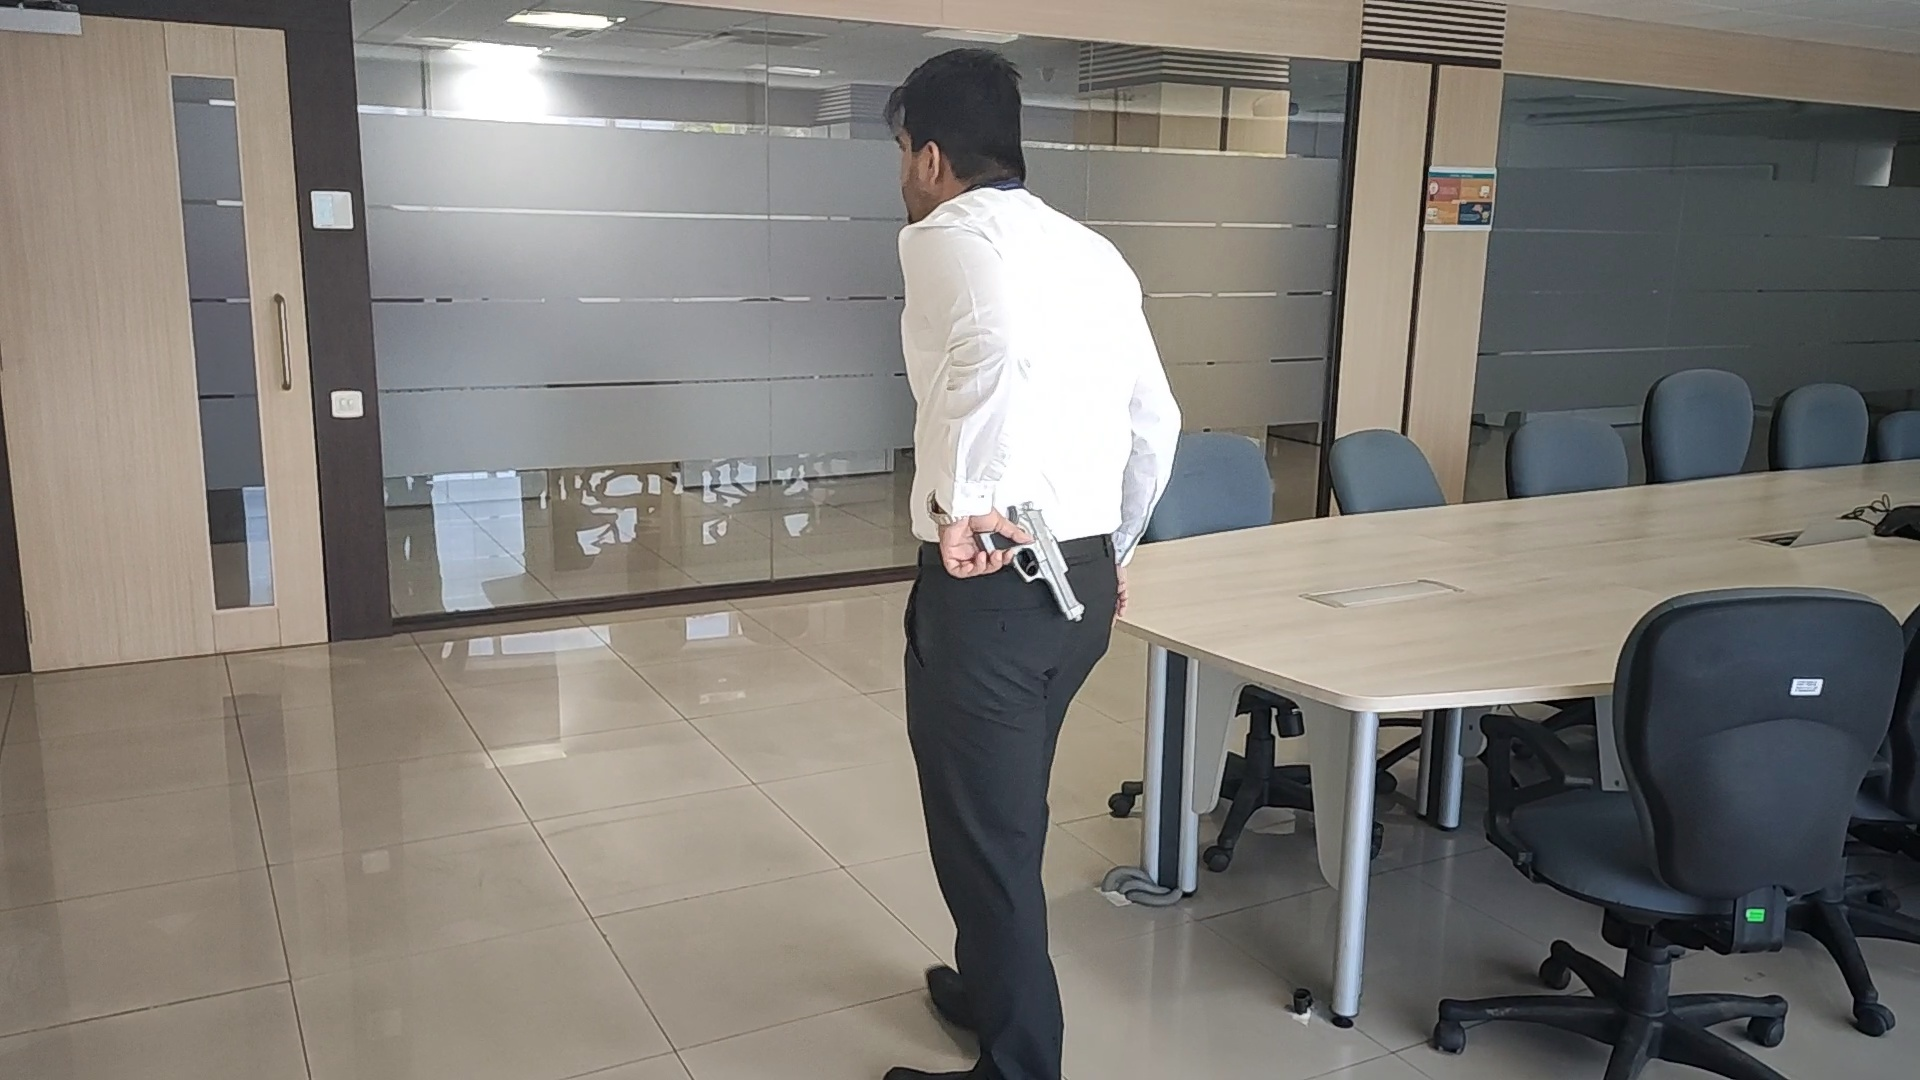gun: (975, 502, 1087, 621)
